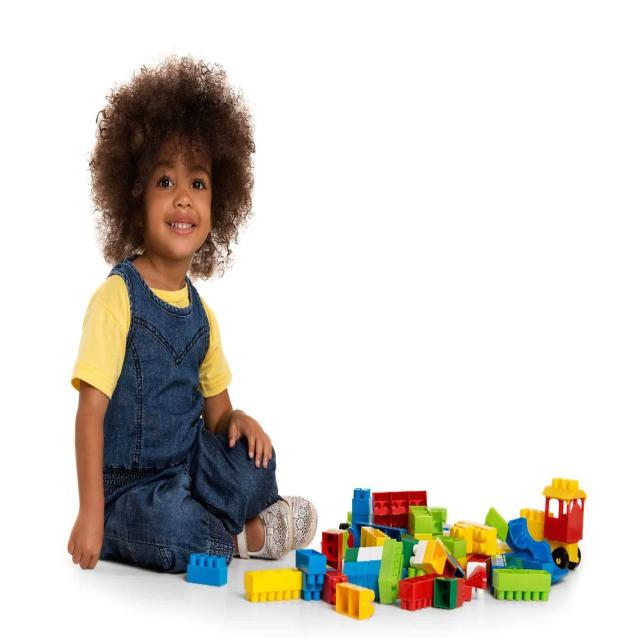child: (67, 62, 316, 570)
